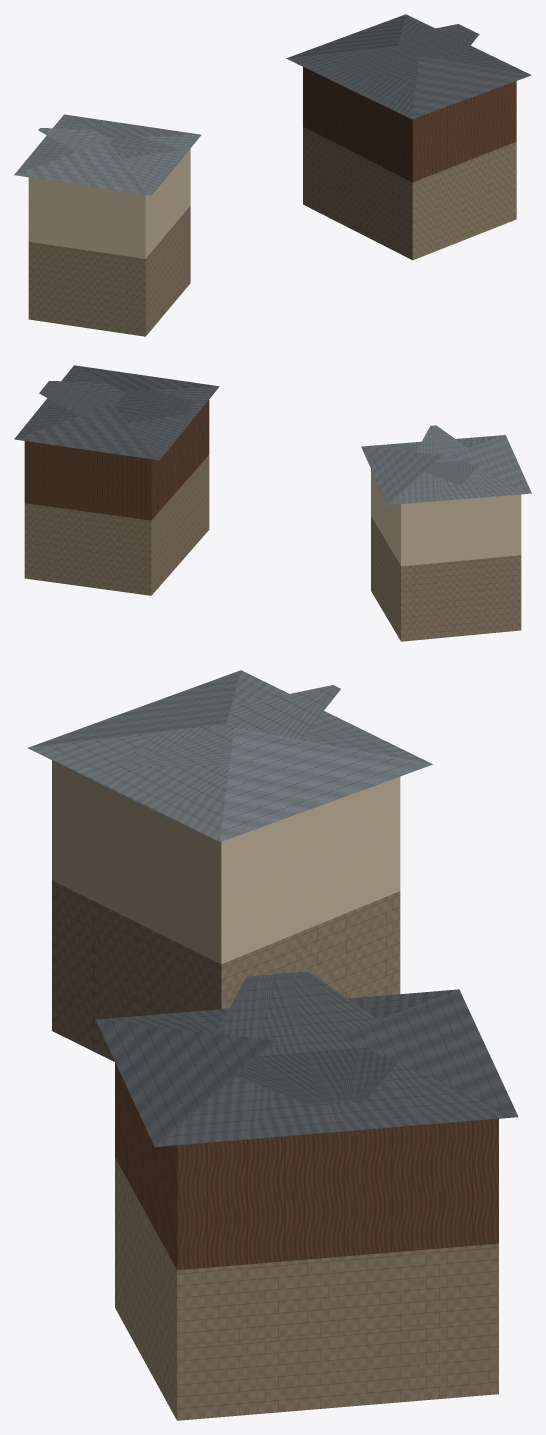
Rendered from bld_c9_6_518.gltf.
3 views of the same model, one above another, from view 1: azimuth 30°, elevation 25°; view 2: azimuth 150°, elevation 25°; view 3: azimuth 270°, elevation 25° (orthographic). The views are drawn at different scales.
Visible parts, largest first — view 1: bld_c9_6_518; view 2: bld_c9_6_518; view 3: bld_c9_6_518.
Part boxes in pixels (x1,y1,x2,y2): bld_c9_6_518: (14,14,531,336); bld_c9_6_518: (14,365,531,641); bld_c9_6_518: (28,670,518,1420).
Bounding box in the file's own units: 33.03 × 10.6 × 14.65.
5 materials, 5 textured.
